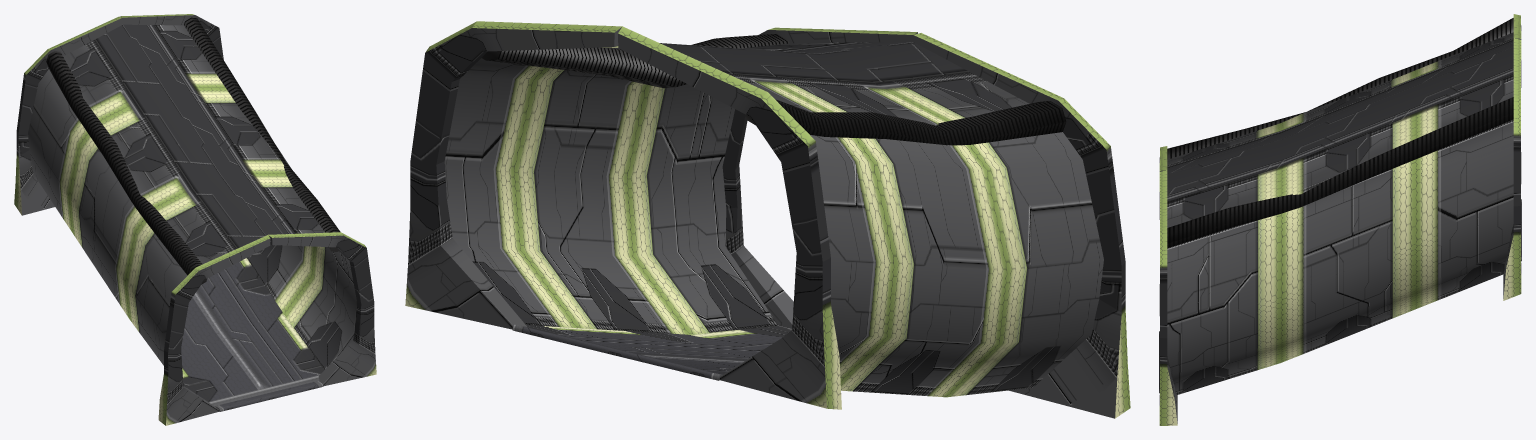
File: Tunnel ramp 02.fbx
3 renders of one model, left to right at view 1: azimuth 30°, elevation 25°; view 2: azimuth 150°, elevation 25°; view 3: azimuth 270°, elevation 25°, orthographic. The views are drawn at different scales.
Visible parts, largest first — view 1: Tunnel ramp 02; view 2: Tunnel ramp 02; view 3: Tunnel ramp 02.
Part boxes in pixels (<box>): Tunnel ramp 02: <box>14,14,376,425</box>; Tunnel ramp 02: <box>405,21,1130,418</box>; Tunnel ramp 02: <box>1159,14,1521,425</box>.
Size of the model in its own units: 389 by 482 by 486.
